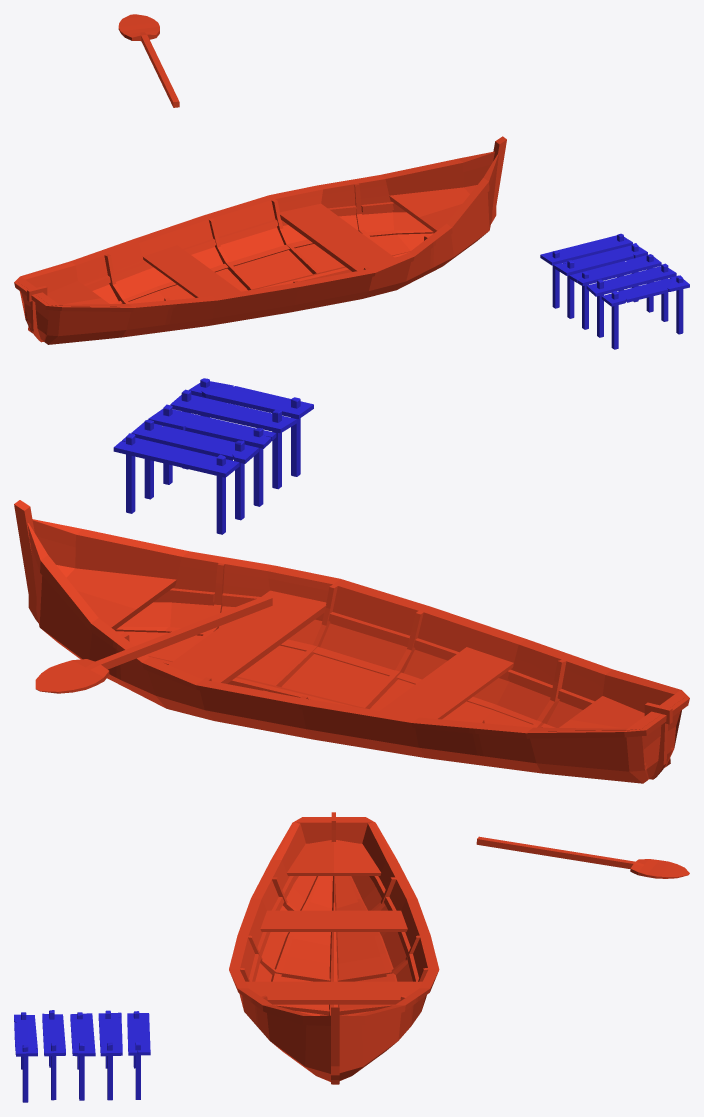
File: barco1.glb
3 views of the same model, one above another, from view 1: azimuth 30°, elevation 25°; view 2: azimuth 150°, elevation 25°; view 3: azimuth 270°, elevation 25° (orthographic). The views are drawn at different scales.
Visible parts, largest first — view 1: BOAT, WOOD PLANES.001, BRIDGE, PEDAL, BOAT WOOD 1; view 2: BOAT, WOOD PLANES.001, BRIDGE, PEDAL, BOAT WOOD 1, BOAT WOOD 2; view 3: BOAT, WOOD PLANES.001, PEDAL, BRIDGE, BOAT WOOD 1.
Boxes of the visible parts, x1,y1,x2,y2 form: BOAT: (14, 151, 498, 344); WOOD PLANES.001: (540, 235, 689, 306); BRIDGE: (552, 233, 683, 349); PEDAL: (118, 14, 179, 107); BOAT WOOD 1: (491, 136, 506, 223); BOAT: (27, 519, 689, 783); WOOD PLANES.001: (113, 381, 313, 477); BRIDGE: (126, 378, 300, 534); PEDAL: (35, 595, 272, 693); BOAT WOOD 1: (14, 500, 38, 622); BOAT WOOD 2: (644, 702, 672, 779); BOAT: (229, 817, 439, 1081); WOOD PLANES.001: (14, 1012, 150, 1056); PEDAL: (476, 836, 689, 878); BRIDGE: (21, 1010, 140, 1102); BOAT WOOD 1: (331, 1007, 339, 1084).
Bounding box in the file's own units: 12.13 × 3.38 × 14.24.
